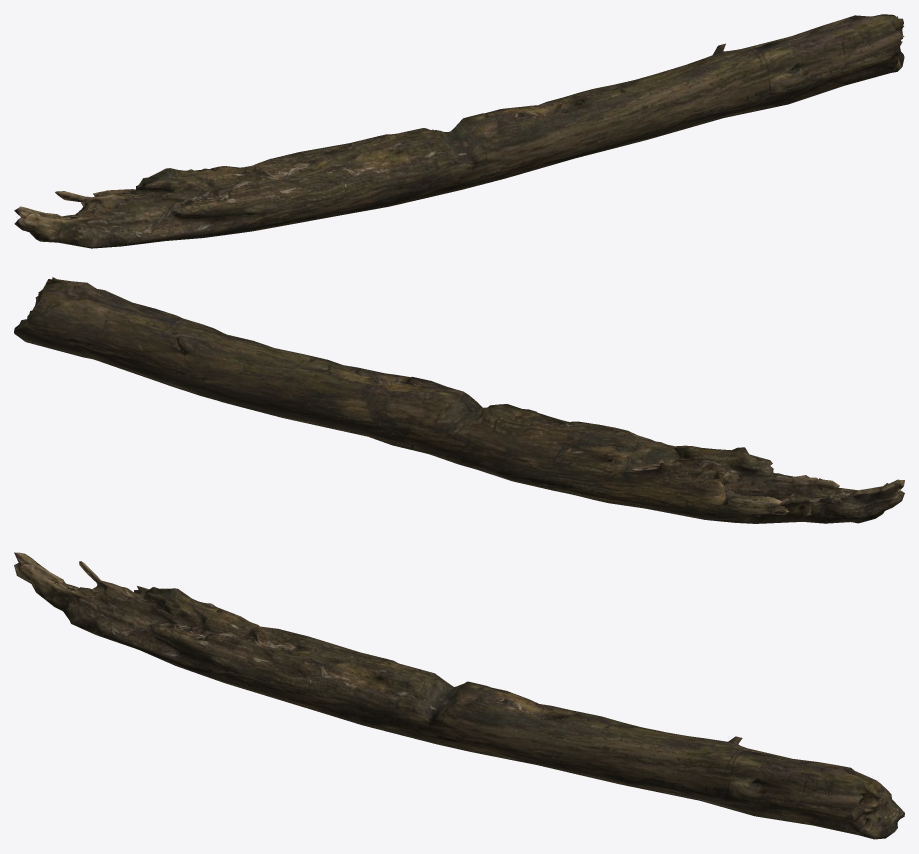
Rendered from dead_tree_trunk.glb.
3 views of the same model, one above another, from view 1: azimuth 30°, elevation 25°; view 2: azimuth 150°, elevation 25°; view 3: azimuth 330°, elevation 25° (orthographic).
Visible parts, largest first — view 1: dead_tree_trunk; view 2: dead_tree_trunk; view 3: dead_tree_trunk.
Boxes of the visible parts, bbox=[...] form: dead_tree_trunk: bbox=[14, 14, 904, 248]; dead_tree_trunk: bbox=[14, 277, 904, 523]; dead_tree_trunk: bbox=[14, 552, 904, 839].
Bounding box in the file's own units: 3.05 × 0.2869 × 0.2774.
Materials: 1 (1 with a texture image).
